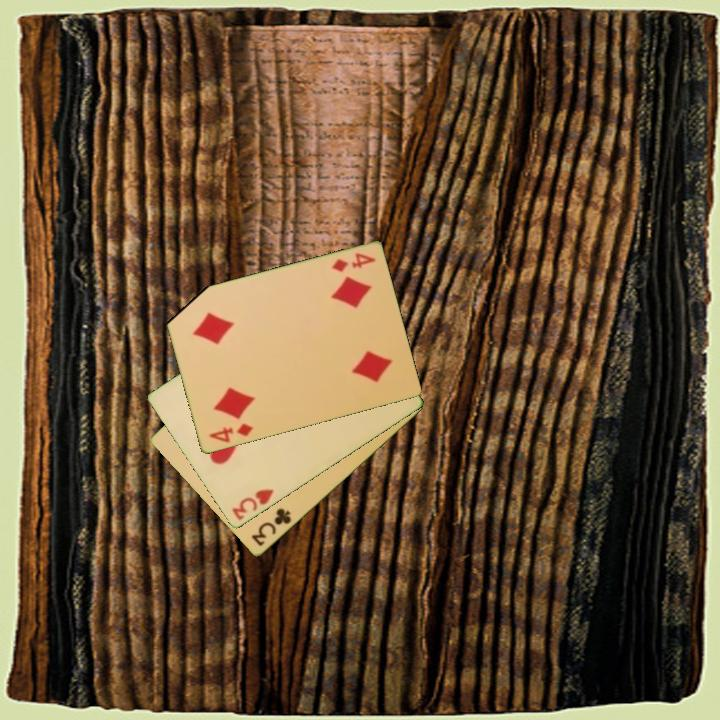3c: (248, 505, 294, 549)
3h: (228, 486, 277, 524)
4d: (205, 420, 256, 446), (328, 250, 378, 275)
